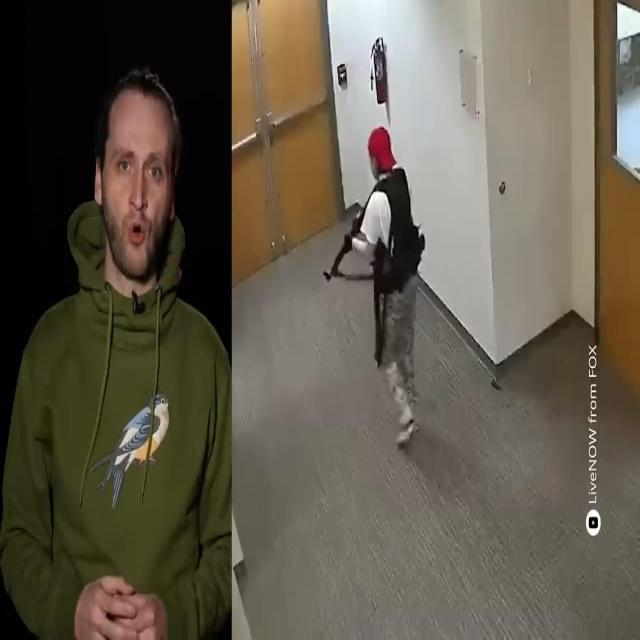pistol: (322, 187, 376, 297), (373, 262, 391, 371)
